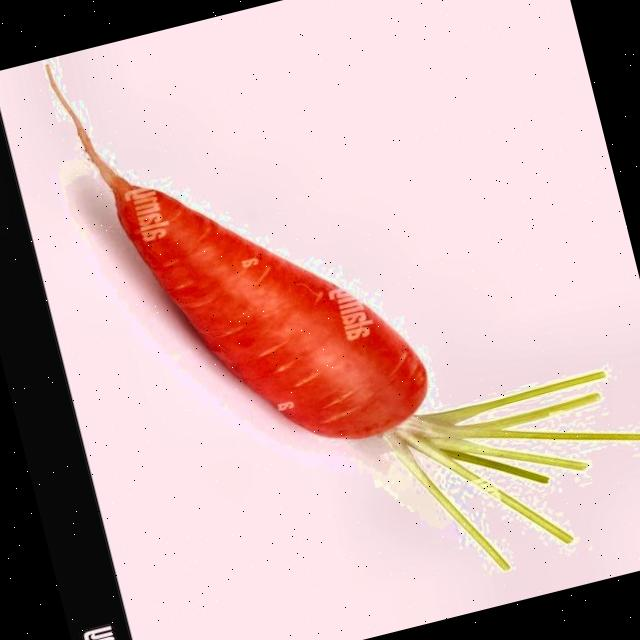carrot: (44, 65, 640, 571)
